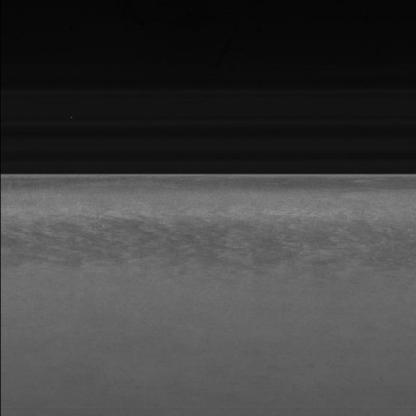silk_spot: (32, 215, 387, 275)
